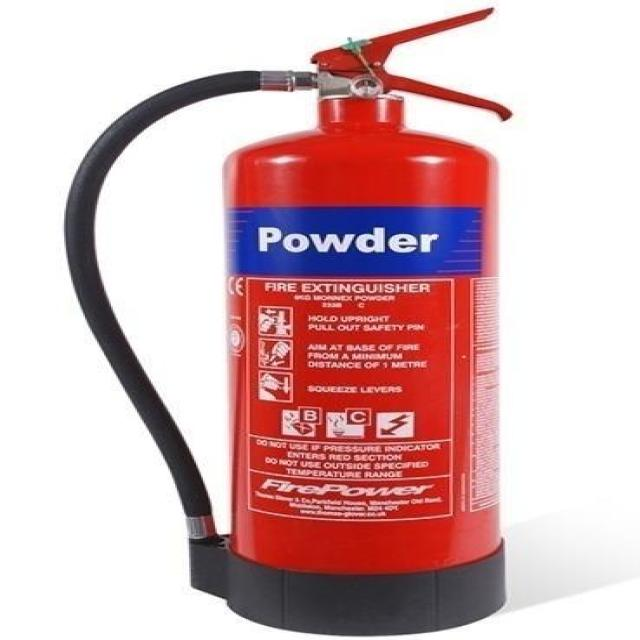fire_extinguisher: (55, 3, 529, 639)
